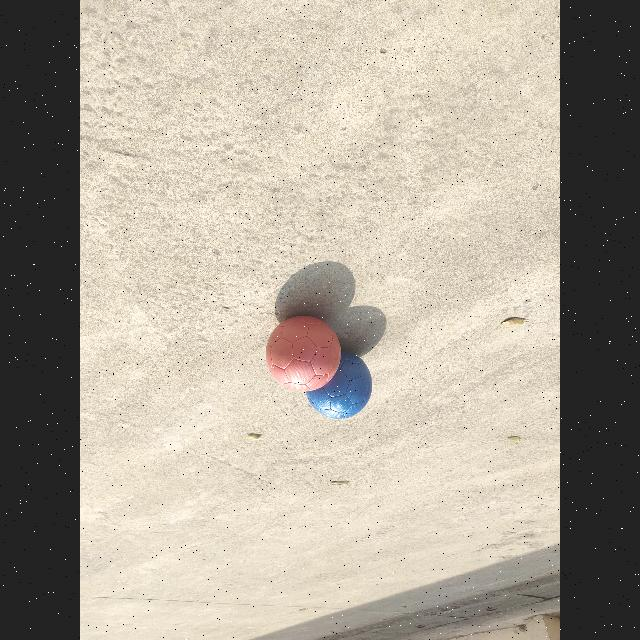B: (305, 351, 373, 419)
R: (266, 316, 341, 392)
